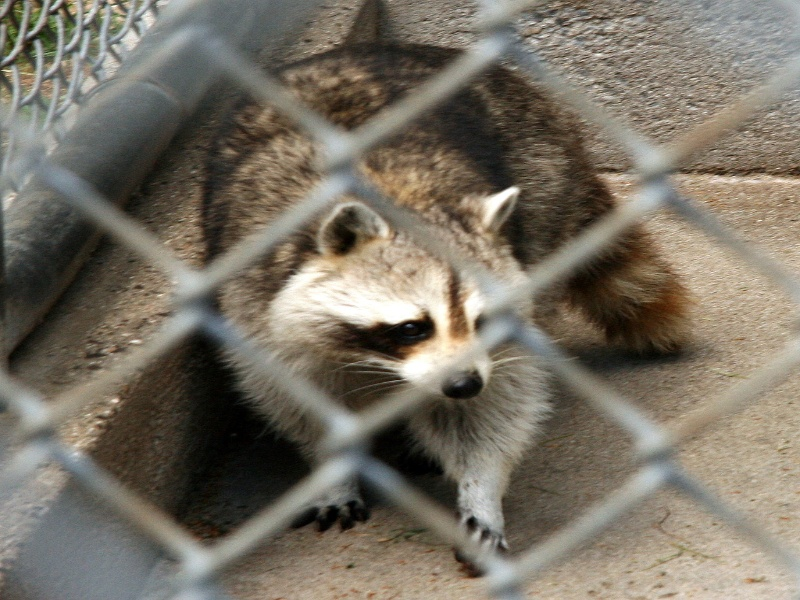raccoon: (199, 39, 688, 580)
